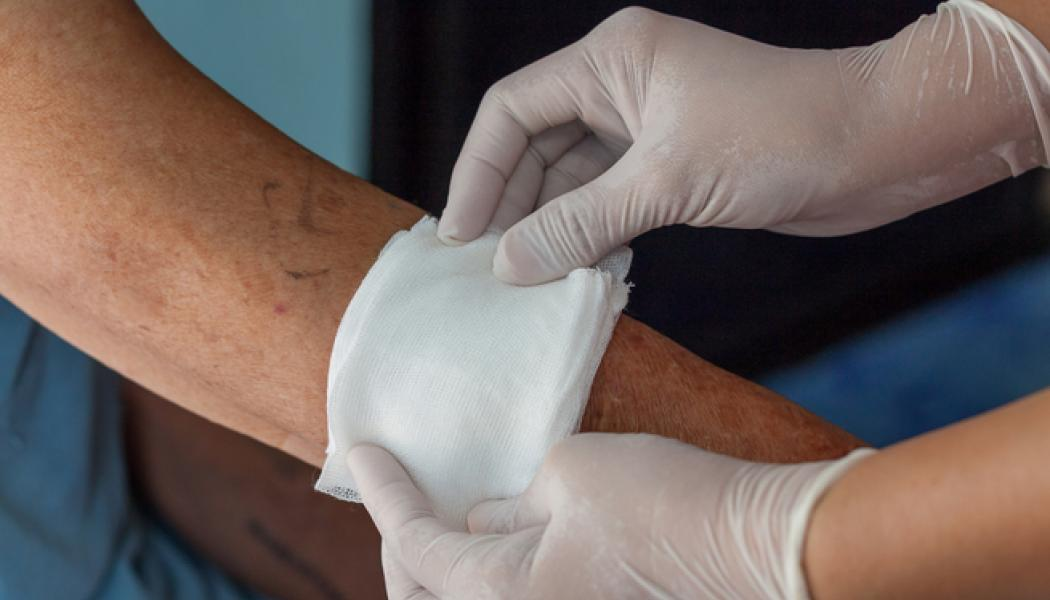gauze: (315, 211, 638, 537)
